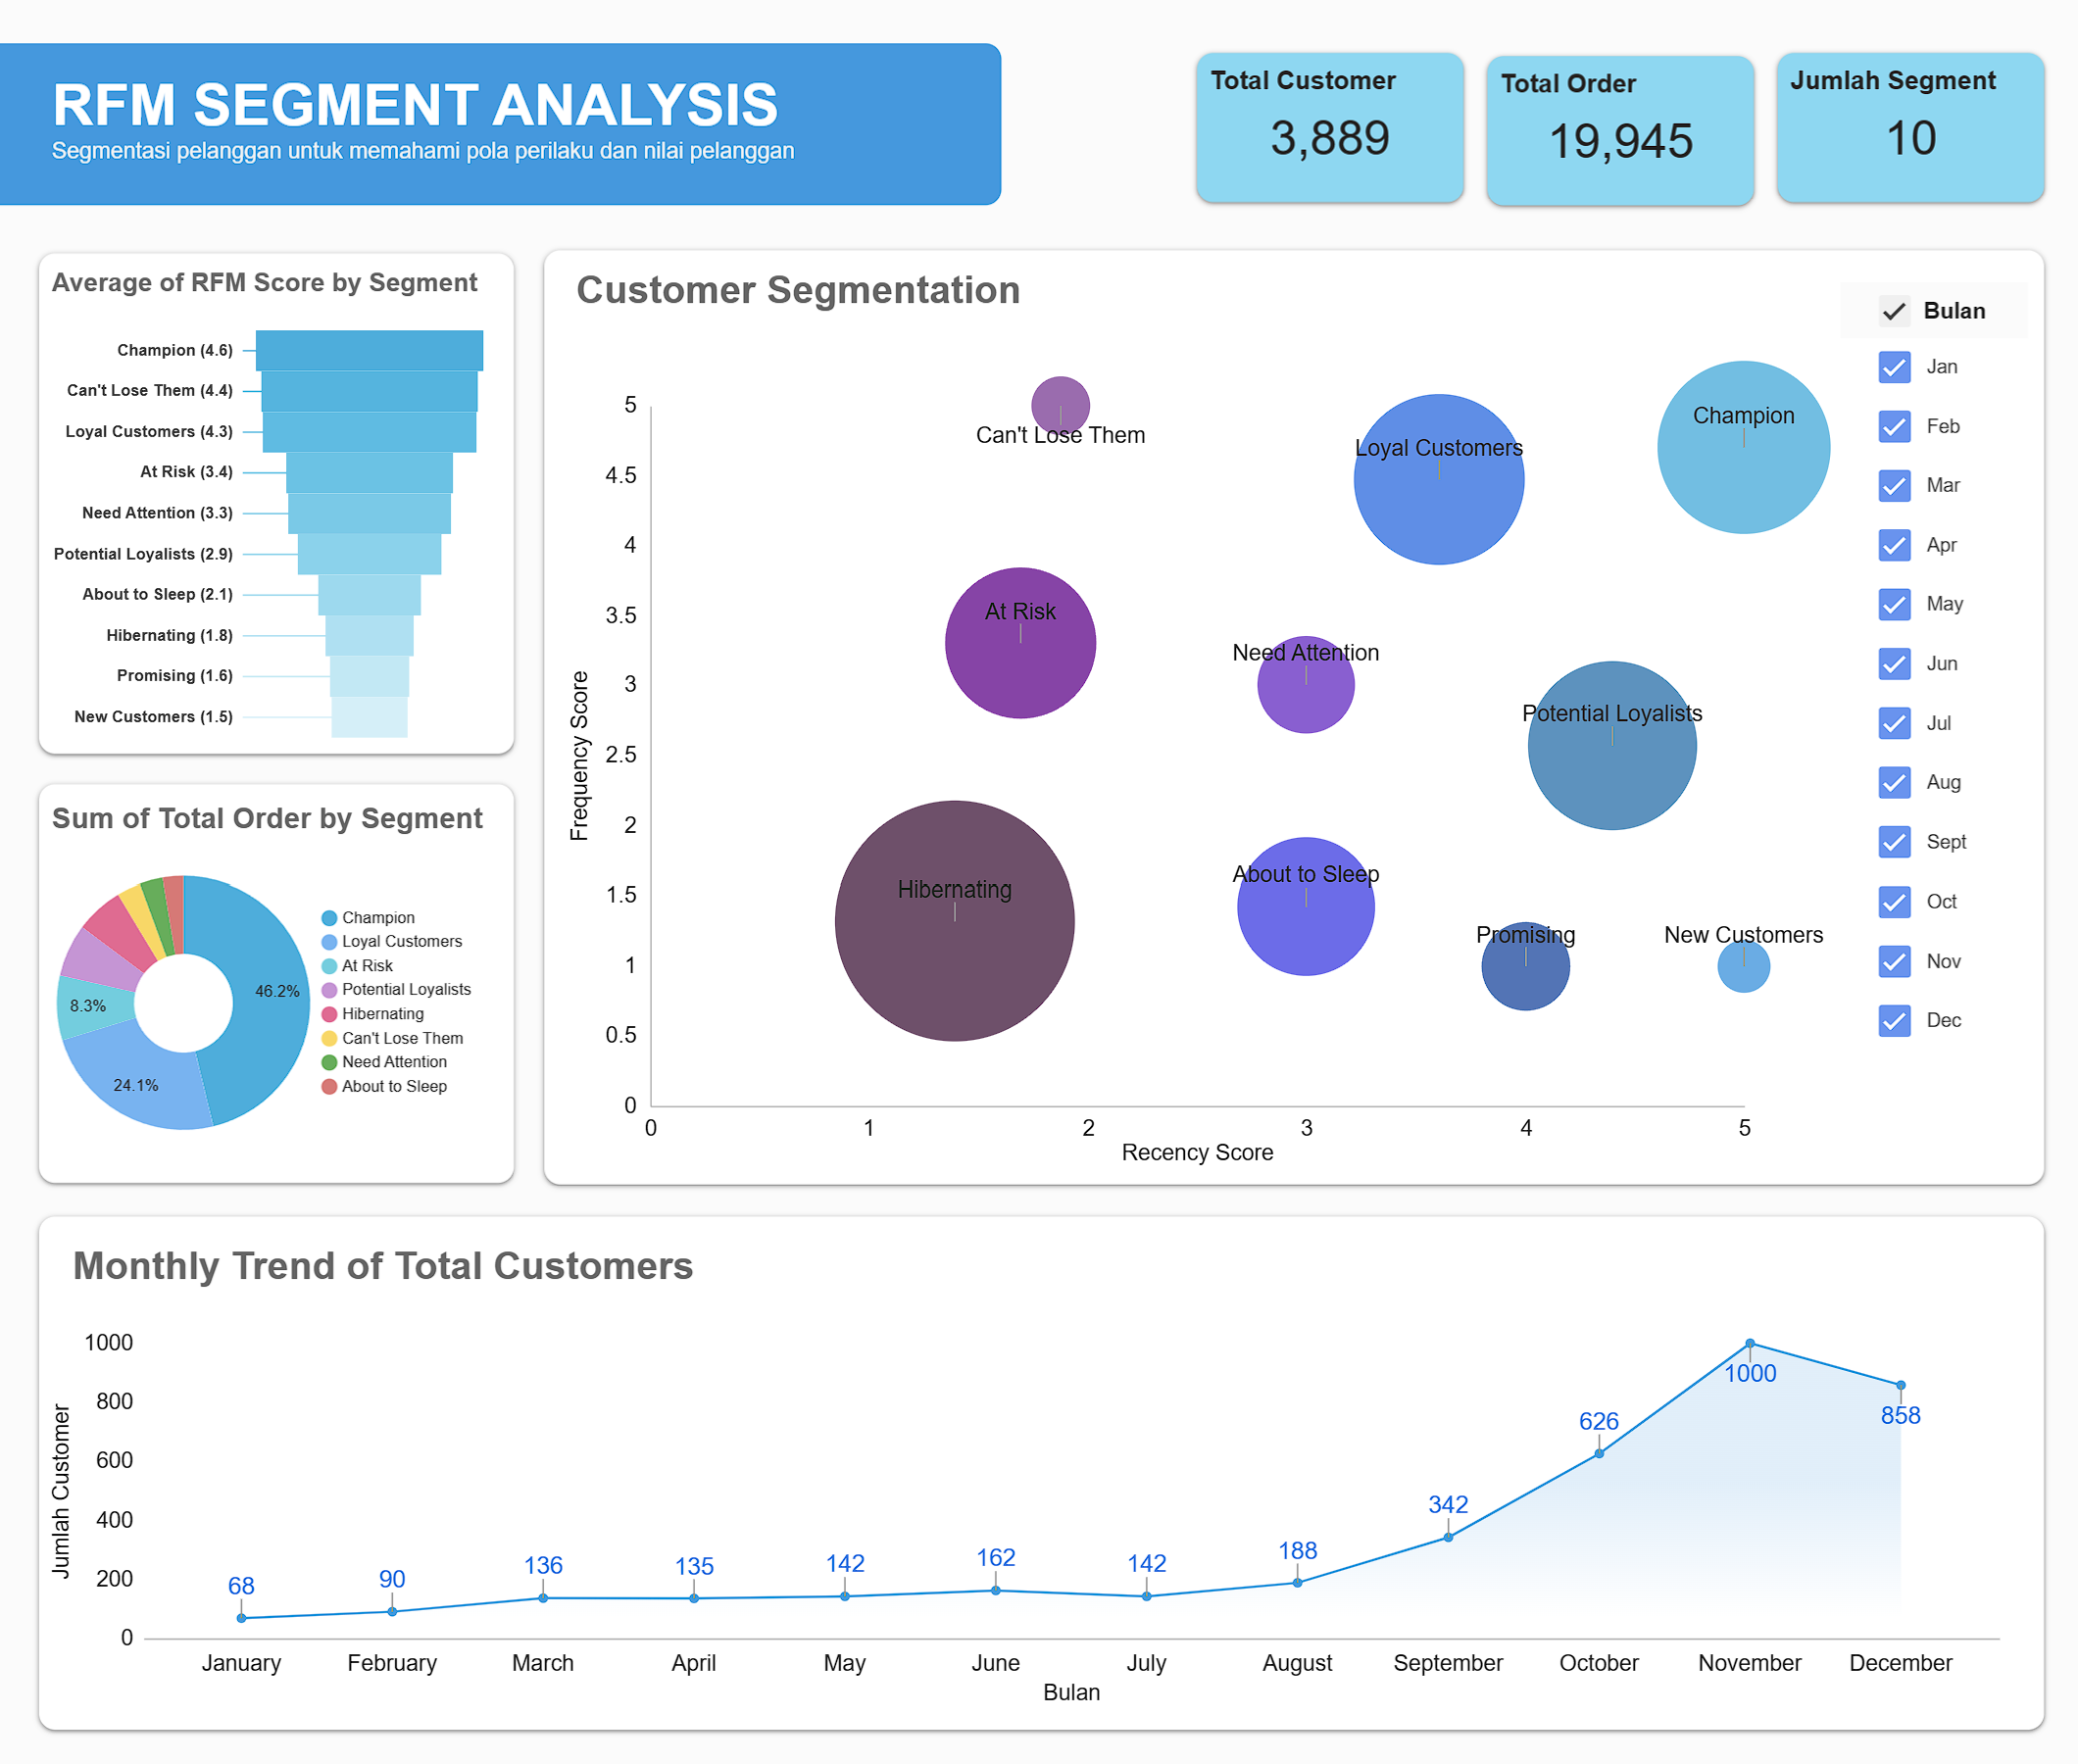

The dashboard page shown, as its layout file describes it:
{"tool":"powerbi","page":{"name":"Segmentation","canvas":[1280,720],"ordinal":0},"visuals":[{"type":"textbox","box":[30,14.3,417.1,58.6],"z":0},{"type":"shape","box":[472.9,401.4,785.7,57.1],"z":1000},{"type":"shape","box":[475.7,372.9,35.7,77.1],"z":2000},{"type":"scatterChart","title":"Customer Segment","fields":{"X":["Avg(customer_segmentation.recency_score)"],"Y":["Avg(customer_segmentation.frequency_score)"],"Size":["Sum(customer_segmentation.customer_id)"],"Category":["customer_segmentation.segment"],"Play":["customer_segmentation.max_order_date.Variation.Date Hierarchy.Month"]},"box":[465.7,72.9,800,385.7],"z":3000},{"type":"funnel","title":"Average of RFM Score by Segment","fields":{"Category":["customer_segmentation.segment"],"Y":["Avg(customer_segmentation.monetary_score)"]},"box":[30,87.1,435.7,372.9],"z":4000},{"type":"areaChart","title":"Total Customer by Month","fields":{"Category":["customer_segmentation.max_order_date.Variation.Date Hierarchy.Month"],"Y":["Count(customer_segmentation.customer_id)"]},"box":[465,480,800,233.3],"z":5000},{"type":"donutChart","title":"Total Customer by Segment","fields":{"Y":["Count(customer_segmentation.customer_id)"],"Series":["customer_segmentation.segment"]},"box":[30,464.3,417.1,248.6],"z":6000},{"type":"card","title":"Total of Customer","fields":{"Values":["Count(customer_segmentation.customer_id)"]},"box":[1161.7,30,70,48.3],"z":7000},{"type":"textbox","box":[986.7,34.4,191.1,40],"z":8000}]}

Visuals, with their boxes on the page's 1280x720 design canvas (x1, y1, x2, y2). These are canvas units, not pixel positions in the 2078x1764 screenshot, which may show the page scaled, cropped or inside an application window:
textbox: x1=30 y1=14 x2=447 y2=73
shape: x1=473 y1=401 x2=1259 y2=458
shape: x1=476 y1=373 x2=511 y2=450
"Customer Segment" scatterChart: x1=466 y1=73 x2=1266 y2=459
"Average of RFM Score by Segment" funnel: x1=30 y1=87 x2=466 y2=460
"Total Customer by Month" areaChart: x1=465 y1=480 x2=1265 y2=713
"Total Customer by Segment" donutChart: x1=30 y1=464 x2=447 y2=713
"Total of Customer" card: x1=1162 y1=30 x2=1232 y2=78
textbox: x1=987 y1=34 x2=1178 y2=74
